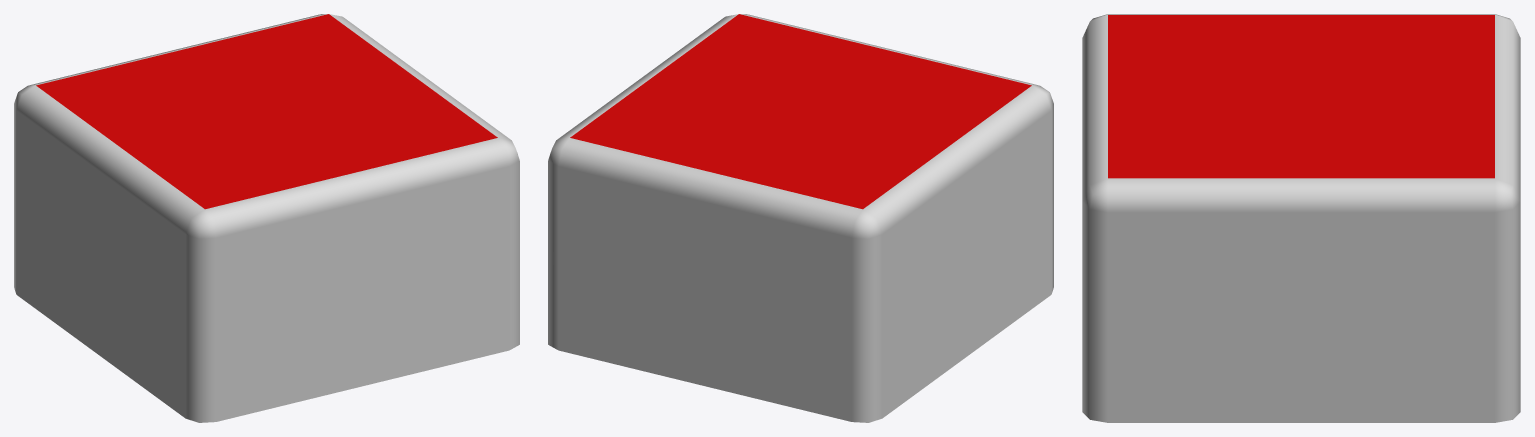
File: GroundTile_half.fbx
3 renders of one model, left to right at view 1: azimuth 30°, elevation 25°; view 2: azimuth 150°, elevation 25°; view 3: azimuth 270°, elevation 25°, orthographic. The views are drawn at different scales.
Parts seen in each view (by area): view 1: GroundTile_half; view 2: GroundTile_half; view 3: GroundTile_half.
Boxes of the visible parts, x1=… form: GroundTile_half: x1=14, y1=14, x2=519, y2=422; GroundTile_half: x1=548, y1=14, x2=1053, y2=422; GroundTile_half: x1=1082, y1=14, x2=1520, y2=422.
Bounding box in the file's own units: 17 × 10 × 17.
